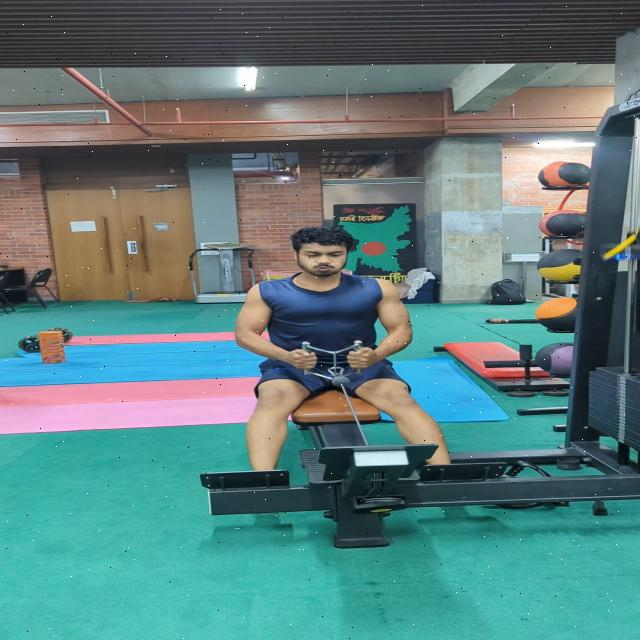Normal_RowingMachineExercise: (227, 224, 453, 478)
